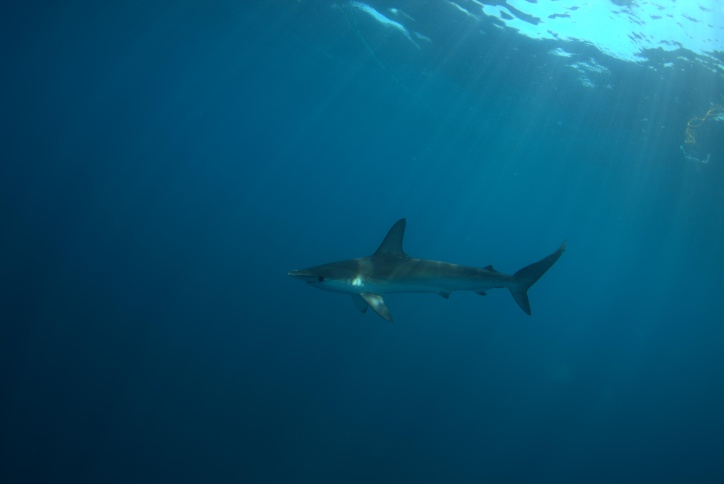Hammer: (284, 215, 579, 343)
